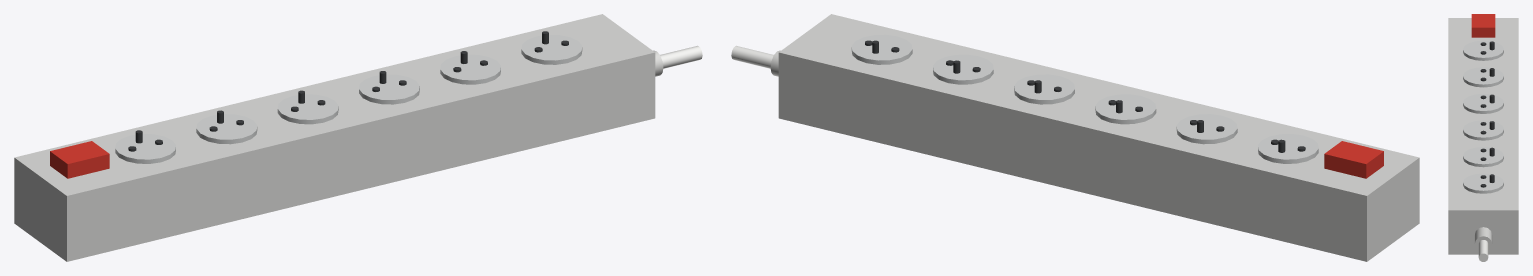
The model's file is multiprise-6-prises.glb.
3 renders of one model, left to right at view 1: azimuth 30°, elevation 25°; view 2: azimuth 150°, elevation 25°; view 3: azimuth 270°, elevation 25°, orthographic. The views are drawn at different scales.
Visible parts, largest first — view 1: Boitier, Interrupteur, Prise 4, Prise 3, Prise 5, Prise 2, Prise 1, Prise 6, Cable; view 2: Boitier, Interrupteur, Prise 4, Prise 3, Prise 5, Prise 6, Prise 1, Prise 2, Cable; view 3: Boitier, Prise 4, Prise 6, Prise 1, Prise 2, Prise 3, Prise 5, Interrupteur, Presse-etoupe, Cable.
Boxes of the visible parts, box(x1,y1,x2,y2) form: Boitier: box(14, 14, 655, 261); Interrupteur: box(50, 141, 109, 178); Prise 4: box(359, 74, 419, 104); Prise 3: box(277, 94, 338, 124); Prise 5: box(440, 54, 500, 84); Prise 2: box(196, 114, 257, 144); Prise 1: box(115, 134, 175, 163); Prise 6: box(521, 34, 582, 64); Cable: box(660, 45, 702, 68); Boitier: box(778, 14, 1419, 261); Interrupteur: box(1324, 141, 1383, 178); Prise 4: box(1014, 74, 1074, 104); Prise 3: box(1095, 94, 1156, 124); Prise 5: box(933, 54, 993, 84); Prise 6: box(851, 34, 912, 64); Prise 1: box(1258, 134, 1318, 163); Prise 2: box(1176, 114, 1237, 144); Cable: box(731, 45, 773, 68); Boitier: box(1448, 18, 1518, 254); Prise 4: box(1463, 120, 1503, 140); Prise 6: box(1463, 173, 1503, 193); Prise 1: box(1463, 40, 1503, 60); Prise 2: box(1463, 67, 1503, 87); Prise 3: box(1463, 93, 1503, 113); Prise 5: box(1463, 147, 1503, 167); Interrupteur: box(1471, 14, 1495, 37); Presse-etoupe: box(1474, 227, 1492, 249); Cable: box(1478, 240, 1488, 261).
Size of the model in its own units: 0.47 by 0.055 by 0.065.
